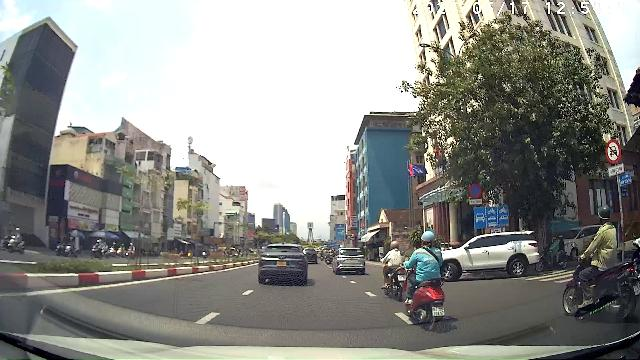103a-cam-oto: (605, 139, 622, 164), (469, 183, 482, 199)
